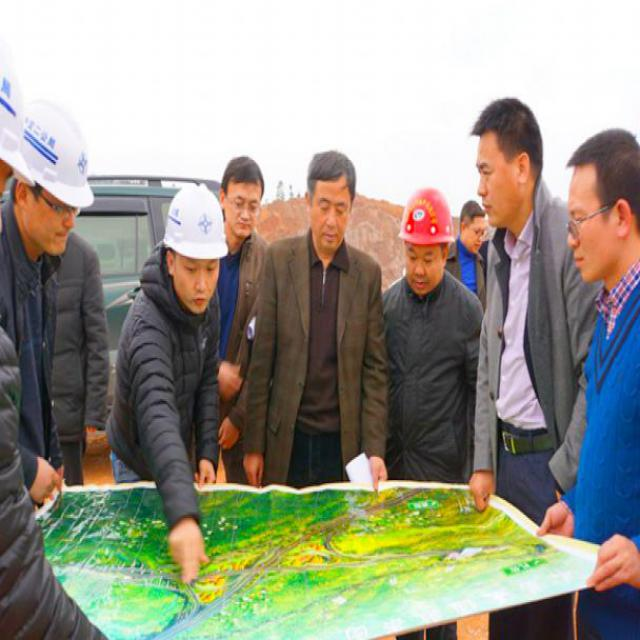helmet: (15, 71, 93, 266), (166, 178, 227, 314), (400, 158, 451, 300)
